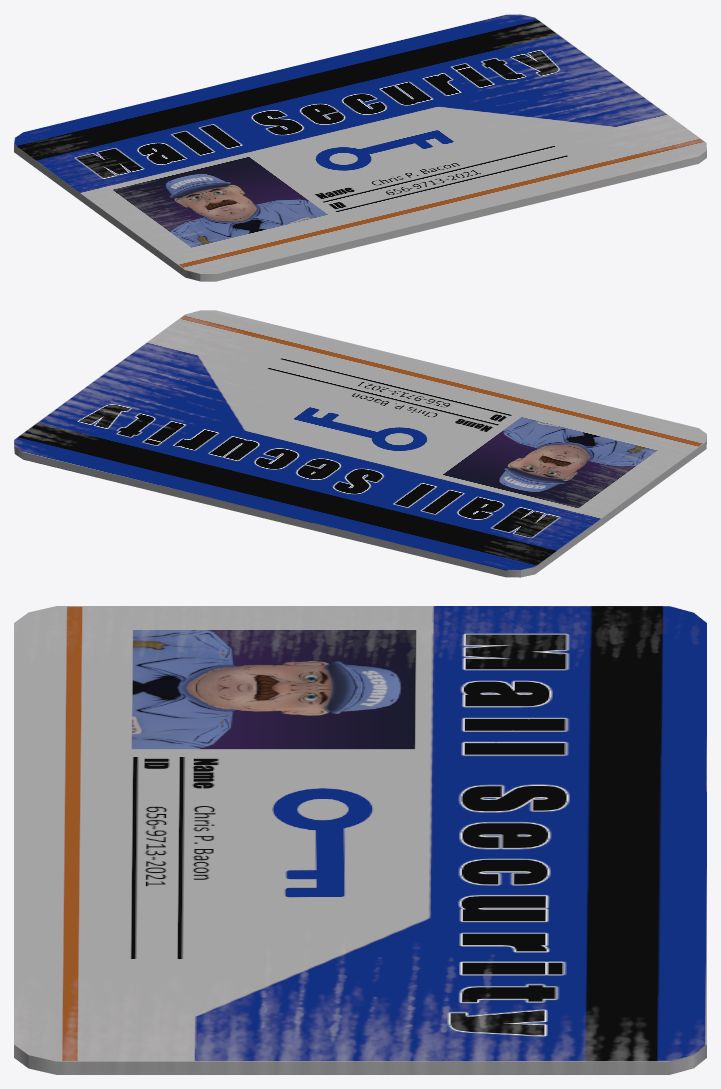
File: KeyCard.fbx
3 renders of one model, top to bottom at view 1: azimuth 30°, elevation 25°; view 2: azimuth 150°, elevation 25°; view 3: azimuth 270°, elevation 25°, orthographic. The views are drawn at different scales.
Visible parts, largest first — view 1: KeyCard_low; view 2: KeyCard_low; view 3: KeyCard_low.
Boxes of the visible parts, x1,y1,x2,y2 form: KeyCard_low: [14, 14, 706, 281]; KeyCard_low: [14, 310, 706, 577]; KeyCard_low: [14, 606, 706, 1074].
Size of the model in its own units: 0.073 by 0.001 by 0.0469.
Materials: 1 (1 with a texture image).
